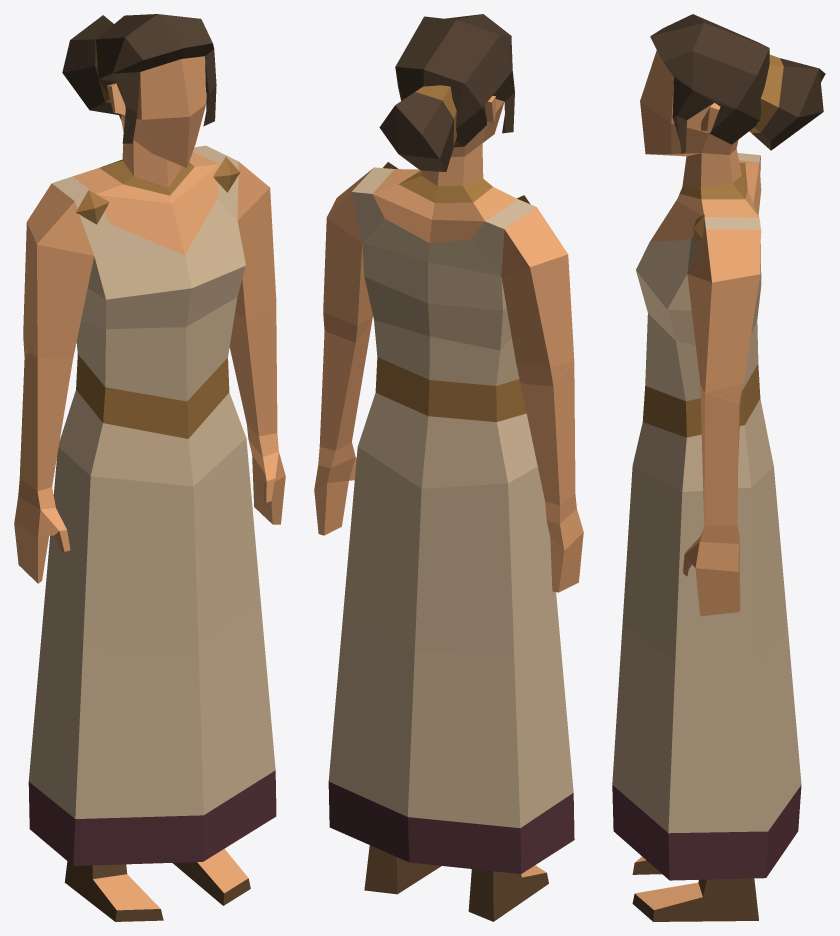
File: SM_Woman_Empire.fbx
The picture shows the model from 3 angles, left to right: view 1: azimuth 30°, elevation 25°; view 2: azimuth 150°, elevation 25°; view 3: azimuth 270°, elevation 25°; orthographic projection.
Visible parts, largest first — view 1: SM_Woman_Empire; view 2: SM_Woman_Empire; view 3: SM_Woman_Empire.
Part boxes in pixels (x1=…): SM_Woman_Empire: x1=14, y1=14, x2=285, y2=921; SM_Woman_Empire: x1=314, y1=14, x2=583, y2=921; SM_Woman_Empire: x1=612, y1=14, x2=825, y2=921.
Size of the model in its own units: 0.5509 by 1.82 by 0.4069.
